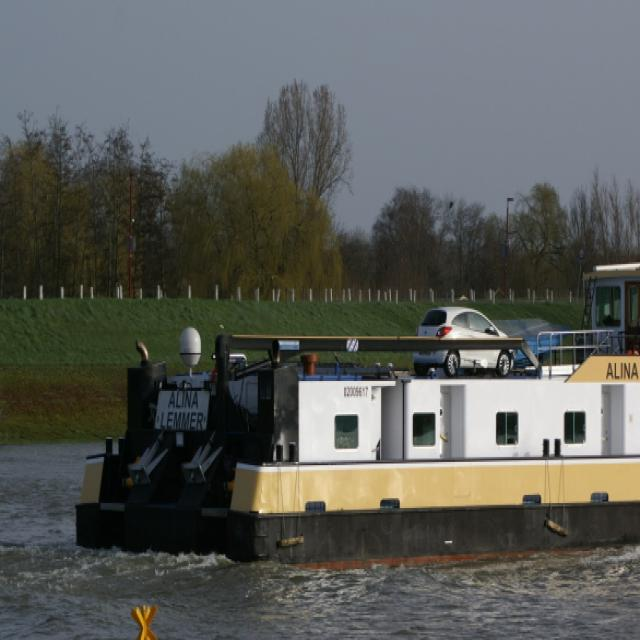tugboat: (65, 254, 640, 594)
